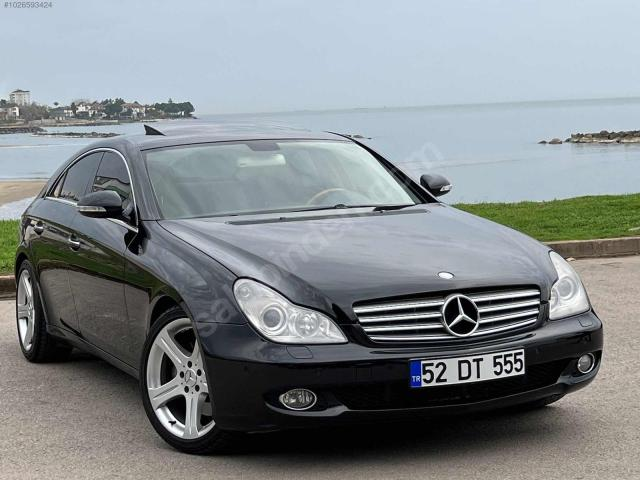plaka: (410, 349, 525, 388)
